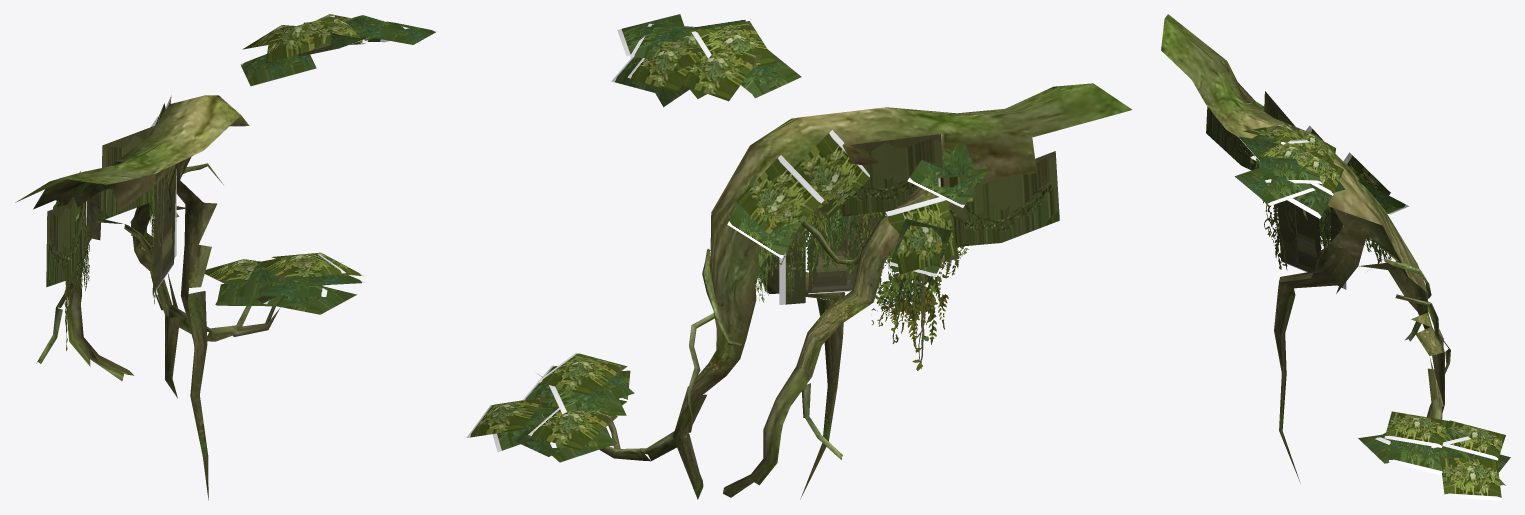
File: S_Tree_Green116_H6.FBX
The picture shows the model from 3 angles, left to right: view 1: azimuth 30°, elevation 25°; view 2: azimuth 150°, elevation 25°; view 3: azimuth 270°, elevation 25°; orthographic projection. The views are drawn at different scales.
Visible parts, largest first — view 1: S_Tree_Green116_H6; view 2: S_Tree_Green116_H6; view 3: S_Tree_Green116_H6.
Boxes of the visible parts, <box> form: S_Tree_Green116_H6: <box>15,14,437,500</box>; S_Tree_Green116_H6: <box>466,14,1132,499</box>; S_Tree_Green116_H6: <box>1161,14,1510,500</box>.
Bounding box in the file's own units: 1315 × 1130 × 911.
